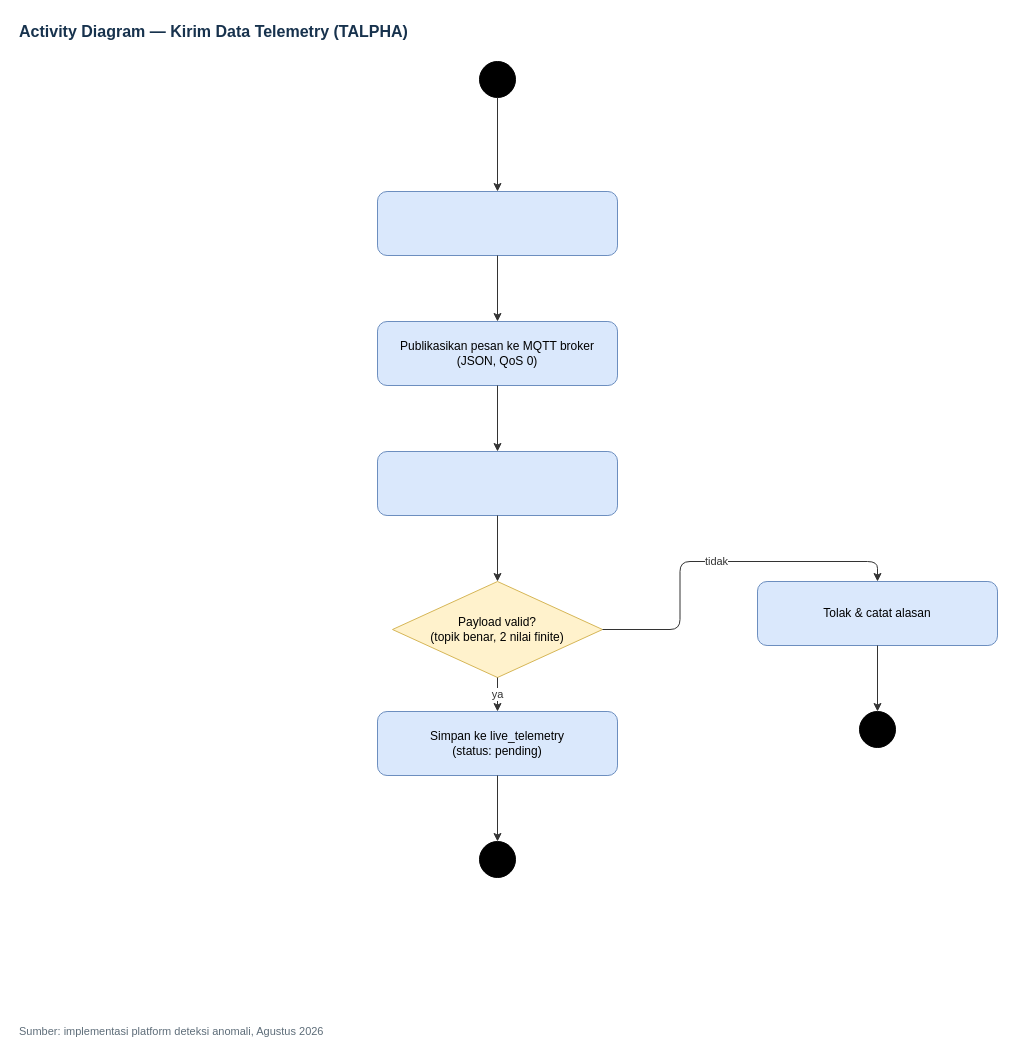
The diagram is 1015 pixels wide and 1058 high, and some of its shapes have lost their labels. Each missing label, with the centre of its shape:
Baca sensor suhu & kelembapan: the point at 497,223
Live Subscriber terima pesan MQTT: the point at 497,483
